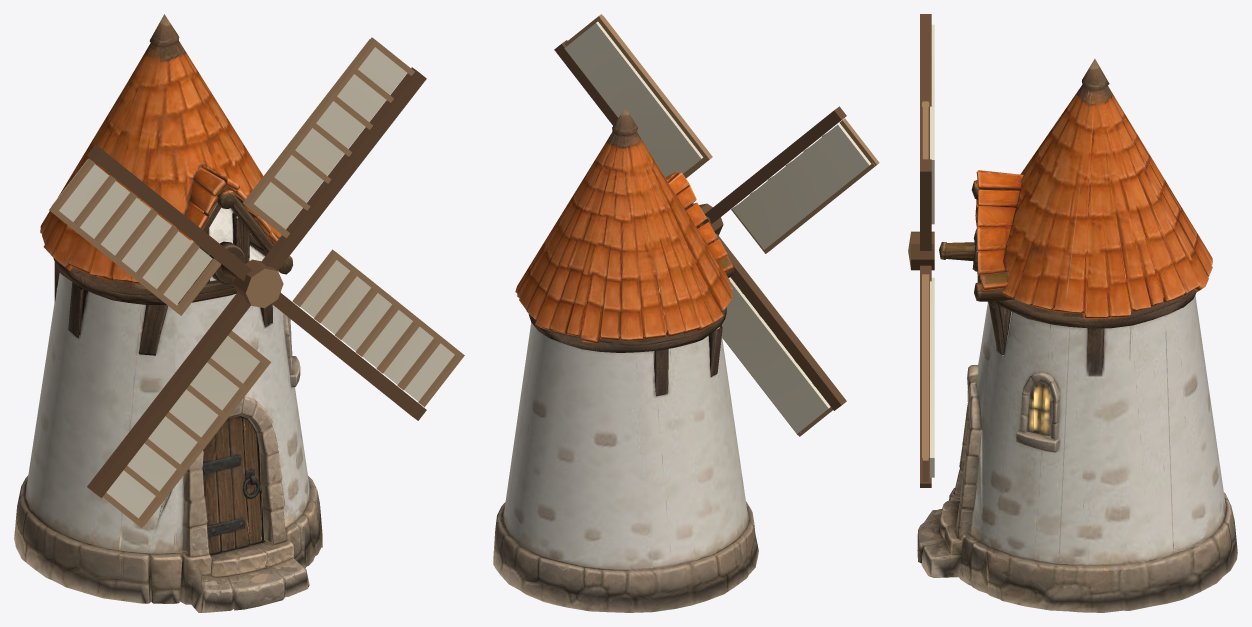
Rendered from windmill.glb.
3 renders of one model, left to right at view 1: azimuth 30°, elevation 25°; view 2: azimuth 150°, elevation 25°; view 3: azimuth 270°, elevation 25°, orthographic. The views are drawn at different scales.
Parts seen in each view (by area): view 1: windmill, Blades; view 2: windmill, Blades; view 3: windmill, Blades.
Part boxes in pixels (bbox=[...]): windmill: bbox=[14, 14, 322, 612]; Blades: bbox=[49, 37, 464, 527]; windmill: bbox=[493, 107, 758, 612]; Blades: bbox=[554, 14, 879, 436]; windmill: bbox=[917, 59, 1237, 612]; Blades: bbox=[908, 14, 934, 487].
Size of the model in its own units: 3.05 by 3.79 by 2.24.
Materials: 3 (2 with a texture image).
